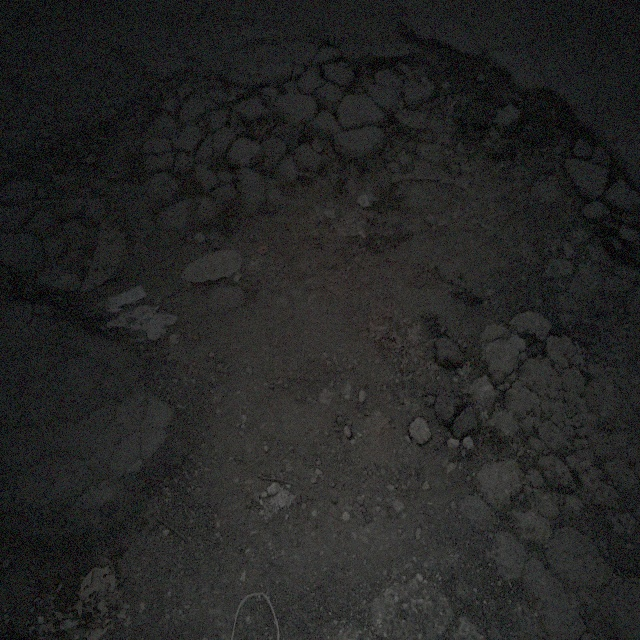pothole: (15, 34, 630, 372)
